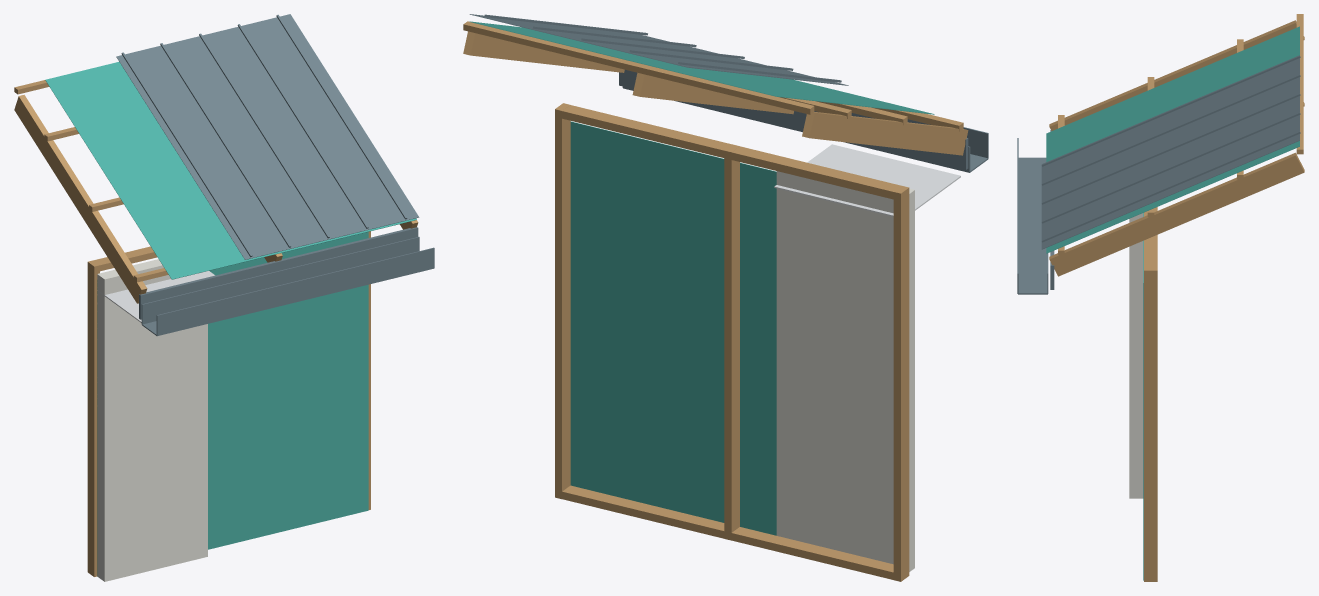
File: eaves.glb
The picture shows the model from 3 angles, left to right: view 1: azimuth 30°, elevation 25°; view 2: azimuth 150°, elevation 25°; view 3: azimuth 270°, elevation 25°; orthographic projection. The views are drawn at different scales.
Parts seen in each view (by area): view 1: roof, wrap.001, cladding, sarking, gutter, frame.001, fascia, battens, soffit; view 2: wrap.001, cladding, frame.001, roof, battens, sarking, soffit, fascia, gutter; view 3: roof, frame.001, sarking, cladding, gutter, battens.
Boxes of the visible parts, x1=… form: roof: x1=116, y1=14, x2=419, y2=259; wrap.001: x1=97, y1=232, x2=368, y2=576; cladding: x1=97, y1=259, x2=207, y2=581; sarking: x1=45, y1=62, x2=416, y2=279; gutter: x1=141, y1=237, x2=434, y2=336; frame.001: x1=14, y1=94, x2=418, y2=576; fascia: x1=139, y1=227, x2=418, y2=319; battens: x1=14, y1=80, x2=168, y2=282; soffit: x1=97, y1=271, x2=214, y2=322; wrap.001: x1=570, y1=121, x2=776, y2=535; cladding: x1=776, y1=171, x2=914, y2=571; frame.001: x1=463, y1=31, x2=968, y2=581; roof: x1=469, y1=14, x2=848, y2=85; battens: x1=463, y1=21, x2=963, y2=131; sarking: x1=469, y1=21, x2=934, y2=114; soffit: x1=774, y1=144, x2=960, y2=216; fascia: x1=619, y1=69, x2=968, y2=169; gutter: x1=622, y1=86, x2=988, y2=172; roof: x1=1041, y1=55, x2=1300, y2=249; frame.001: x1=1049, y1=20, x2=1304, y2=581; sarking: x1=1046, y1=26, x2=1299, y2=253; cladding: x1=1129, y1=213, x2=1143, y2=498; gutter: x1=1017, y1=138, x2=1048, y2=294; battens: x1=1058, y1=14, x2=1303, y2=255.
Bounding box in the file's own units: 2.15 × 3.27 × 1.92.
